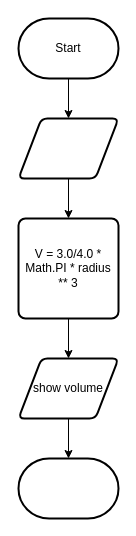
The diagram is 136 pixels wide and 536 high, and some of its shapes have lost their labels. The box of each missing label's shape, as (x1, y1, x2, y2) in pixels:
get radius: (17, 117, 119, 179)
Stop: (17, 457, 119, 519)
